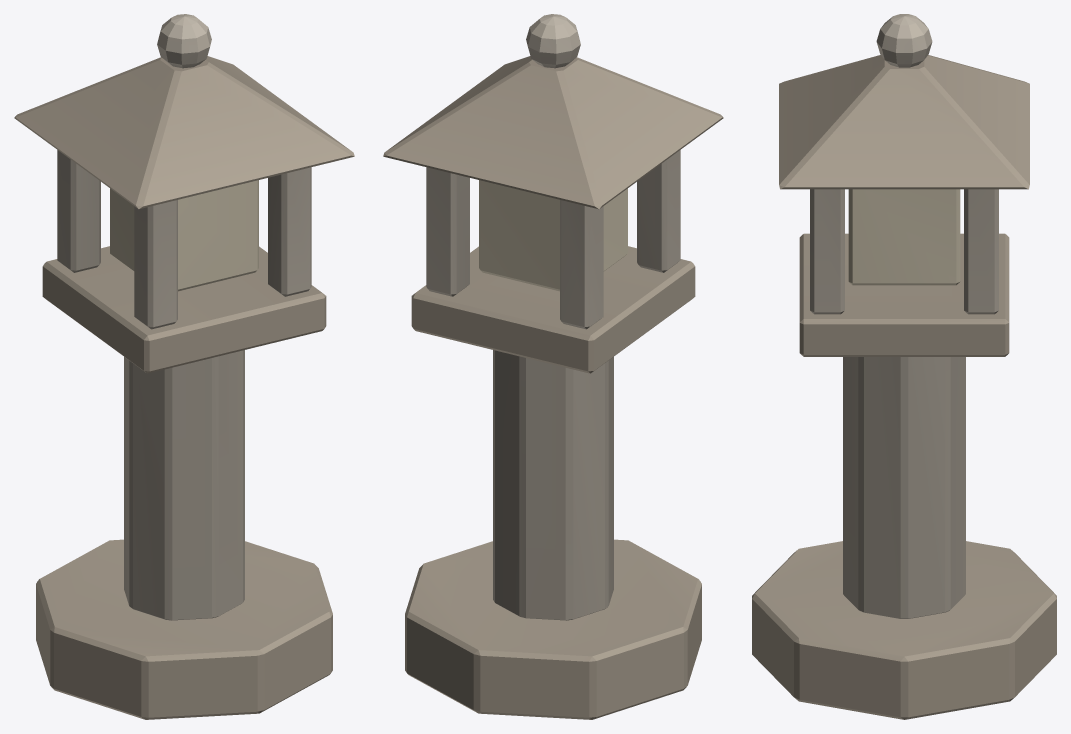
Rendered from lantern_stone.glb.
3 renders of one model, left to right at view 1: azimuth 30°, elevation 25°; view 2: azimuth 150°, elevation 25°; view 3: azimuth 270°, elevation 25°, orthographic.
Size of the model in its own units: 0.4354 by 1.01 by 0.4354.
